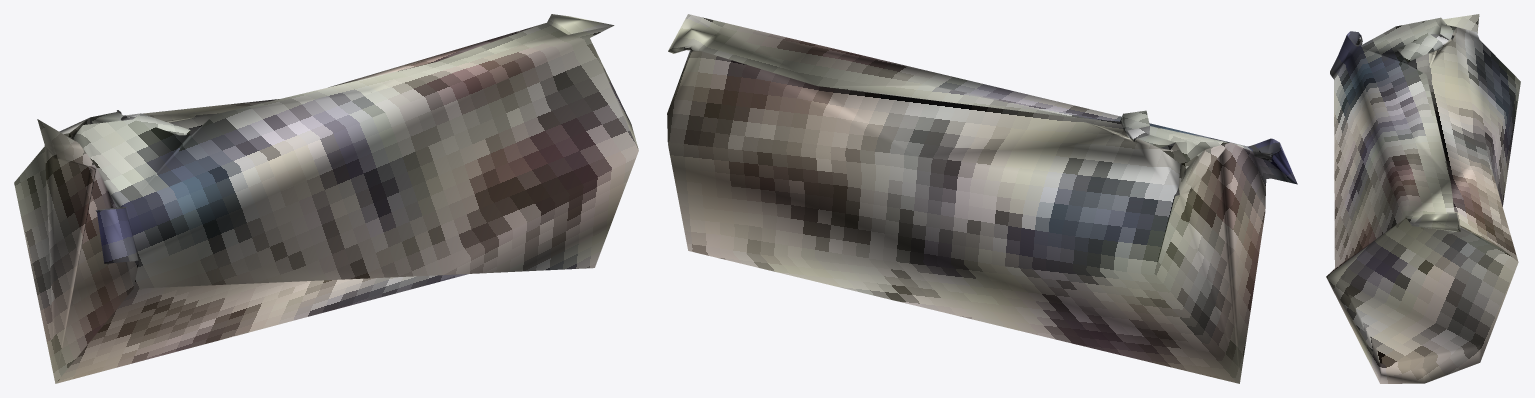
Rendered from Horse_Dreams_Pencil_Case-low.glb.
3 views of the same model, side by side, from view 1: azimuth 30°, elevation 25°; view 2: azimuth 150°, elevation 25°; view 3: azimuth 270°, elevation 25° (orthographic). The views are drawn at different scales.
Visible parts, largest first — view 1: Horse_Dreams_Pencil_Case; view 2: Horse_Dreams_Pencil_Case; view 3: Horse_Dreams_Pencil_Case.
Boxes of the visible parts, left/top/right/bottom form: Horse_Dreams_Pencil_Case: left=14, top=14, right=638, bottom=383; Horse_Dreams_Pencil_Case: left=667, top=14, right=1297, bottom=383; Horse_Dreams_Pencil_Case: left=1326, top=14, right=1520, bottom=383.
Size of the model in its own units: 0.2167 by 0.0891 by 0.0826.
1 material, 1 textured.
